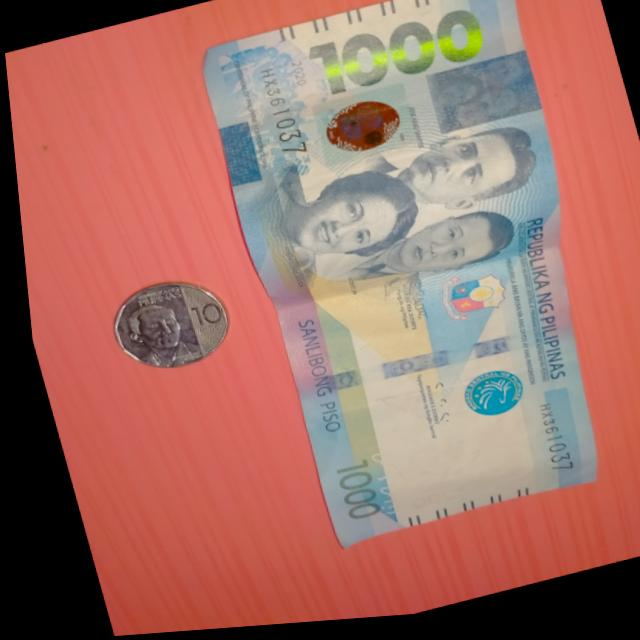concealed_value: (414, 52, 544, 146)
optically_variable_device: (302, 81, 422, 174)
see_through_mark: (349, 438, 398, 527)
value_watermark: (392, 484, 461, 518)
watermark: (372, 396, 556, 521)
